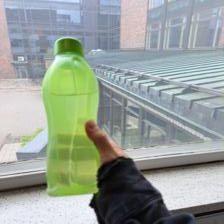bottle: (39, 34, 106, 199)
